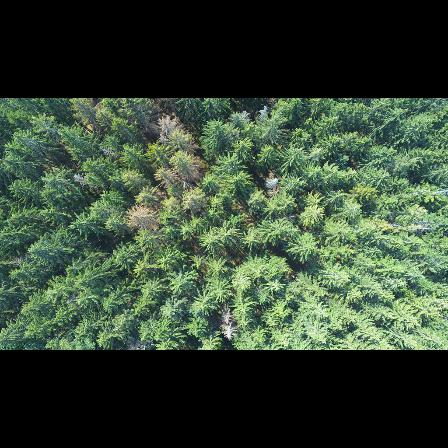Dead: (123, 204, 162, 234), (154, 114, 183, 140), (218, 309, 238, 340), (262, 174, 282, 194), (71, 172, 93, 188)
